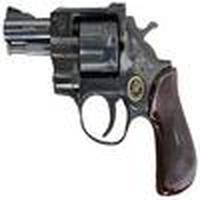gun: (2, 7, 199, 197)
